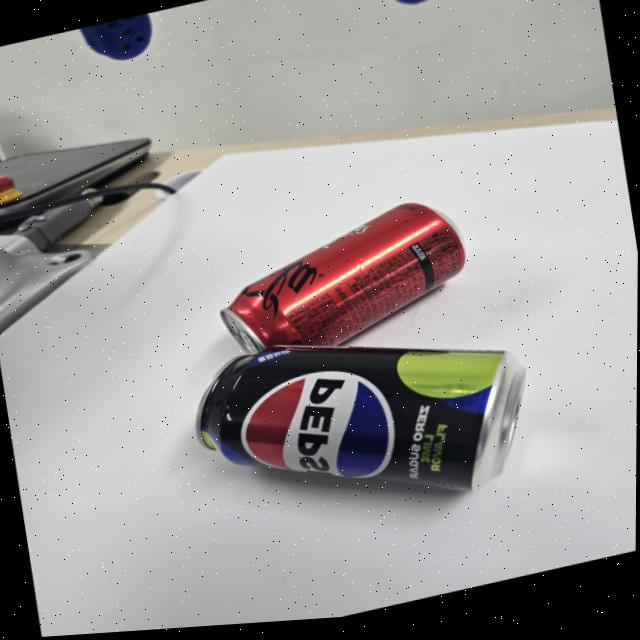can_coke_zero: (219, 200, 469, 351)
can_pepsi_zero: (196, 343, 523, 490)
